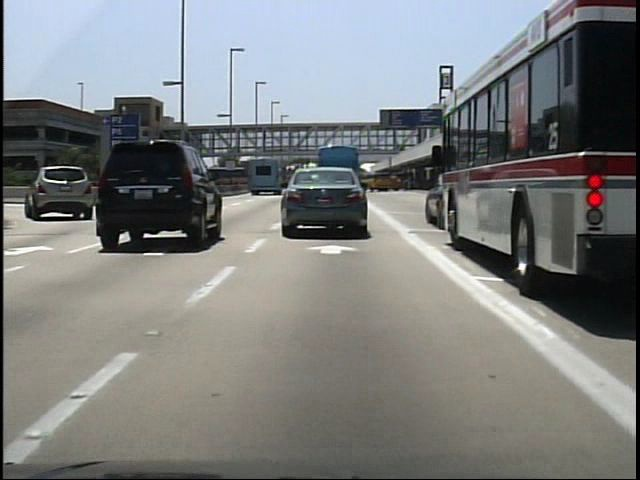person: (391, 136, 404, 157), (363, 136, 376, 156)
